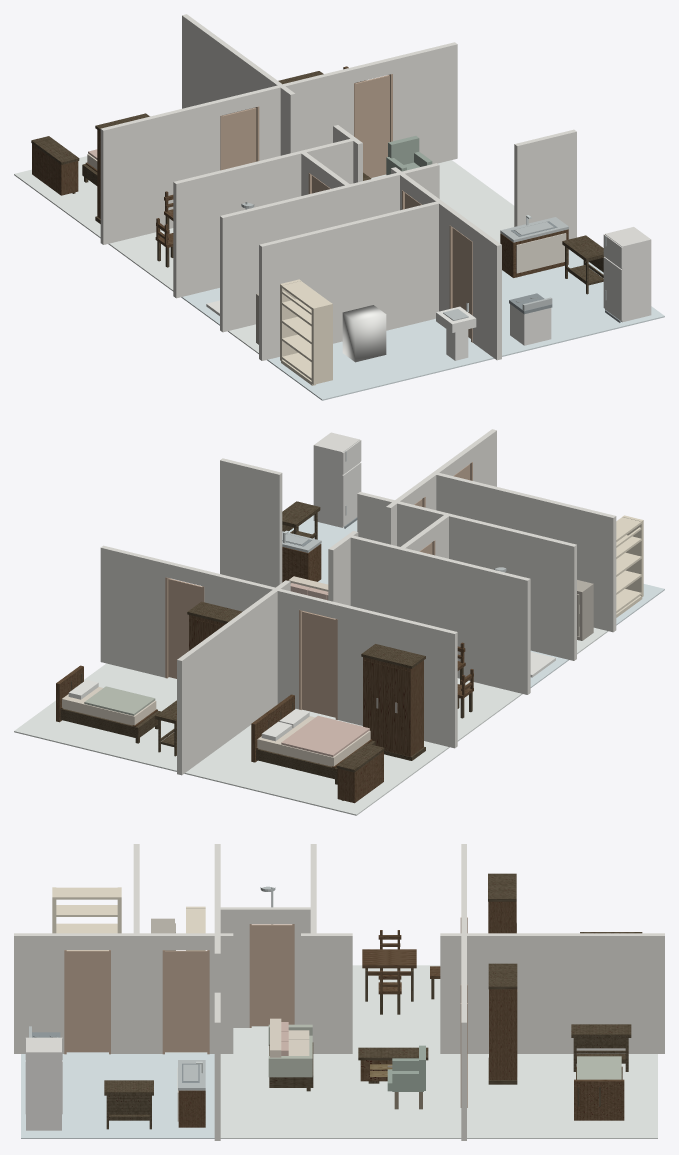
The picture shows the model from 3 angles, top to bottom: view 1: azimuth 30°, elevation 25°; view 2: azimuth 150°, elevation 25°; view 3: azimuth 270°, elevation 25°; orthographic projection. The views are drawn at different scales.
Visible parts, largest first — view 1: H18_WALL_13, H18_WALL_02, H18_WALL_09, H18_WALL_10, H18_WALL_00, H18_FLOOR_08_LAVANDERIA, H18_WALL_03, H18_FLOOR_02_COZINHA, H18_WALL_01, H18_WALL_08, H18_WALL_07, H18_FLOOR_01_SALA (+26 smaller); view 2: H18_WALL_10, H18_WALL_03, H18_WALL_09, H18_WALL_13, H18_WALL_02, H18_WALL_00, H18_WALL_08, H18_FLOOR_03_QUARTO_1, H18_FLOOR_00_QUARTO_2, H18_WALL_01, H18_DOOR_01_LEAF, H18_FURN_03_fridge__05__gabinete (+29 smaller); view 3: H18_WALL_03, H18_FLOOR_01_SALA, H18_FLOOR_00_QUARTO_2, H18_FLOOR_02_COZINHA, H18_FLOOR_04_JANTAR, H18_WALL_06, H18_WALL_04, H18_WALL_07, H18_DOOR_03_LEAF, H18_DOOR_04_LEAF, H18_DOOR_02_LEAF, H18_FURN_03_fridge__05__gabinete (+34 smaller).
Part boxes in pixels (x1,y1,x2,y2): H18_WALL_13: (259, 201, 440, 360); H18_WALL_02: (100, 100, 221, 244); H18_WALL_09: (220, 163, 439, 332); H18_WALL_10: (173, 138, 353, 298); H18_WALL_00: (389, 42, 457, 163); H18_FLOOR_08_LAVANDERIA: (267, 318, 494, 400); H18_WALL_03: (182, 14, 295, 155); H18_FLOOR_02_COZINHA: (502, 249, 664, 356); H18_WALL_01: (256, 67, 354, 160); H18_WALL_08: (514, 129, 576, 239); H18_WALL_07: (472, 226, 501, 360); H18_FLOOR_01_SALA: (371, 160, 514, 243); H18_WALL_10: (350, 535, 530, 694); H18_WALL_03: (177, 580, 290, 775); H18_WALL_09: (357, 492, 576, 660); H18_WALL_13: (436, 472, 616, 632); H18_WALL_02: (337, 603, 457, 748); H18_WALL_00: (100, 545, 168, 677); H18_WALL_08: (220, 458, 282, 587); H18_FLOOR_03_QUARTO_1: (184, 710, 449, 815); H18_FLOOR_00_QUARTO_2: (14, 663, 176, 771); H18_WALL_01: (203, 570, 302, 709); H18_DOOR_01_LEAF: (302, 611, 335, 717); H18_FURN_03_fridge__05__gabinete: (313, 432, 359, 527); H18_WALL_03: (440, 933, 664, 1053); H18_FLOOR_01_SALA: (220, 1052, 461, 1138); H18_FLOOR_00_QUARTO_2: (467, 1054, 657, 1138); H18_FLOOR_02_COZINHA: (21, 1052, 214, 1138); H18_FLOOR_04_JANTAR: (352, 965, 440, 1052); H18_WALL_06: (110, 933, 163, 1053); H18_WALL_04: (301, 933, 352, 1053); H18_WALL_07: (14, 933, 65, 1053); H18_DOOR_03_LEAF: (165, 950, 207, 1052); H18_DOOR_04_LEAF: (66, 950, 108, 1052); H18_DOOR_02_LEAF: (251, 924, 292, 1026); H18_FURN_03_fridge__05__gabinete: (26, 1037, 61, 1130).
Bounding box in the file's own units: 7.88 × 2.46 × 12.14.
22 materials, 3 textured.
